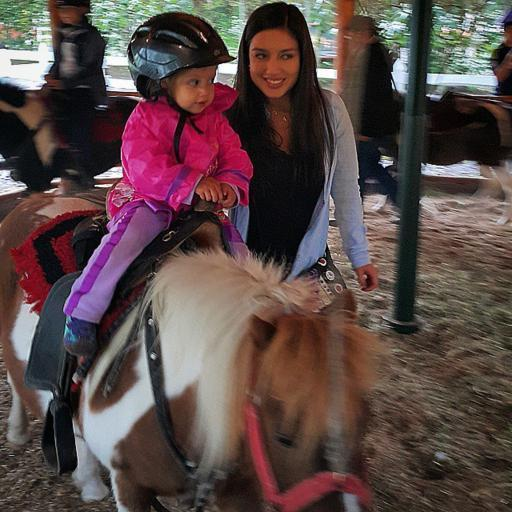horse: (0, 187, 395, 511), (362, 86, 512, 229), (0, 77, 139, 191)
